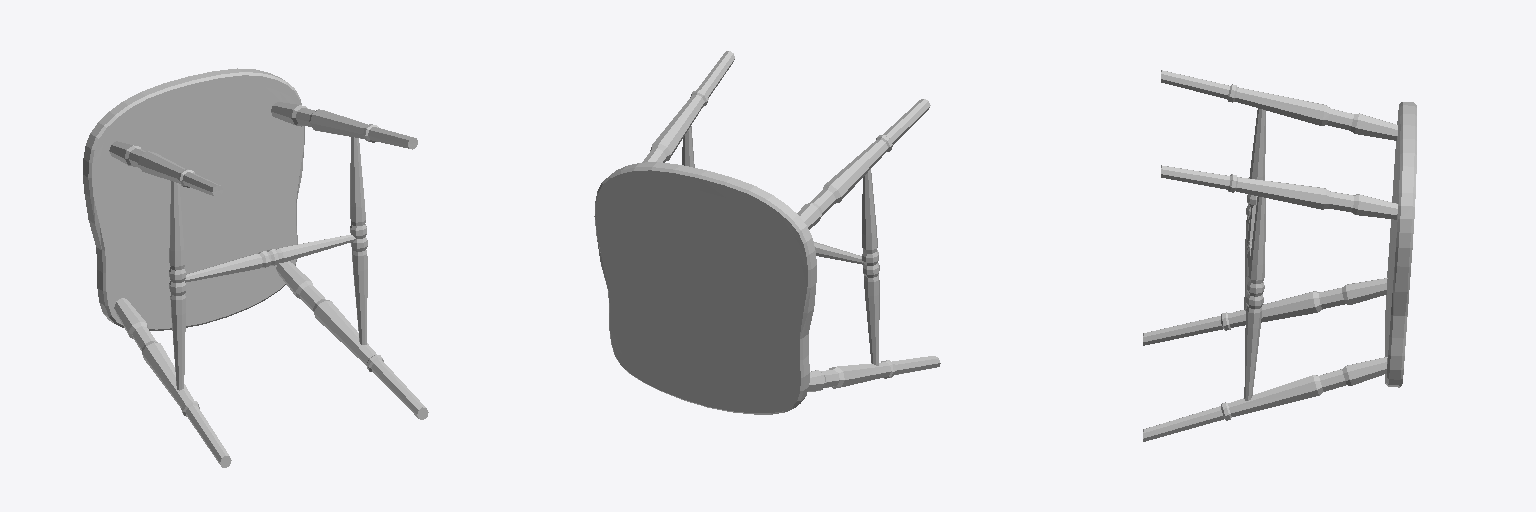
The model's file is FallenChairBottom.obj.
3 views of the same model, side by side, from view 1: azimuth 30°, elevation 25°; view 2: azimuth 150°, elevation 25°; view 3: azimuth 270°, elevation 25° (orthographic).
Visible parts, largest first — view 1: body_main_Cylinder_003; view 2: body_main_Cylinder_003; view 3: body_main_Cylinder_003.
Boxes of the visible parts, <box> form: body_main_Cylinder_003: <box>83,68,428,467</box>; body_main_Cylinder_003: <box>594,51,940,414</box>; body_main_Cylinder_003: <box>1143,70,1416,441</box>.
Bounding box in the file's own units: 0.408 × 0.4962 × 0.4472.